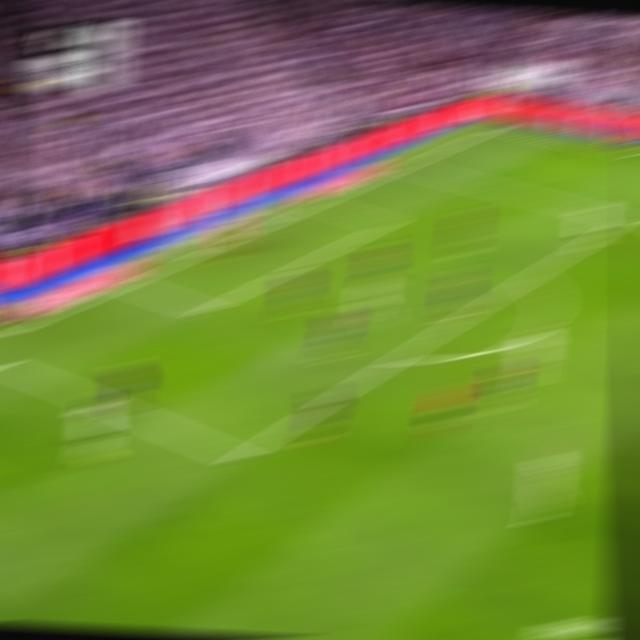bigarea_bottom_inner: (224, 444, 255, 472)
bigarea_top_outter: (397, 158, 422, 171)
bottom_arc_area_intersection: (385, 348, 413, 367)
corner: (487, 120, 513, 130)
smallarea_bottom_inner: (192, 300, 219, 320)
smallarea_top_inner: (374, 217, 397, 229)
